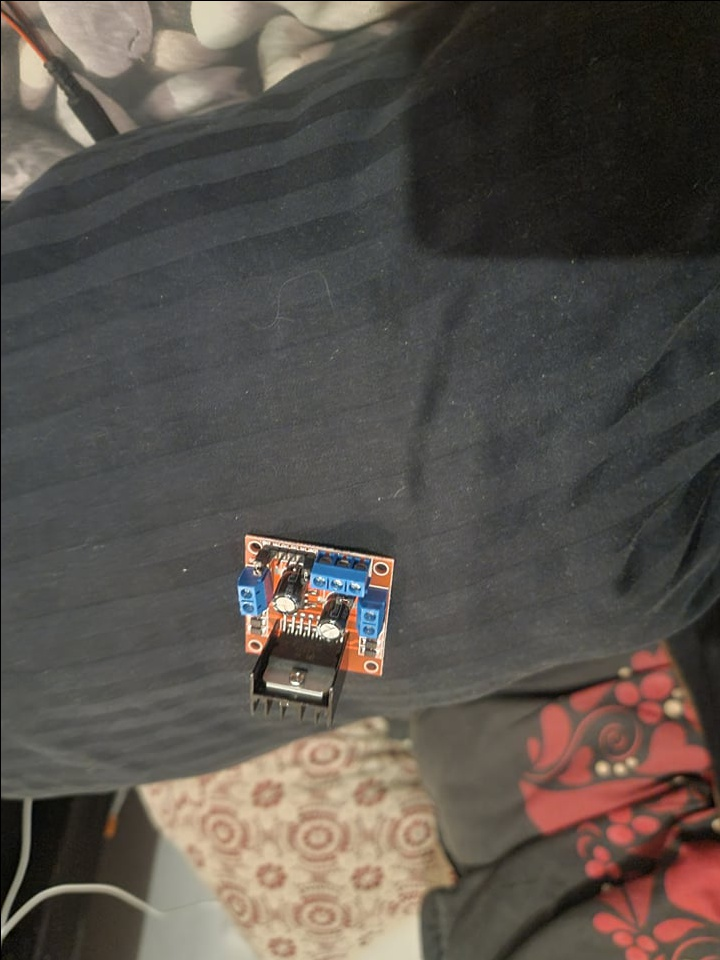MOTOR: (236, 531, 399, 726)
